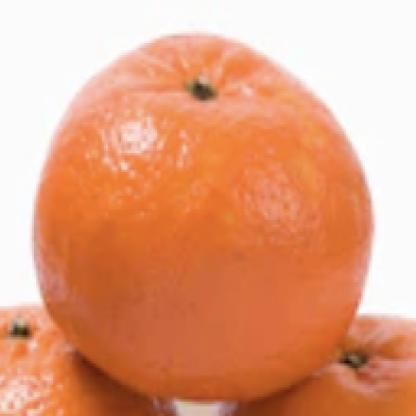fresh: (32, 33, 378, 400)
